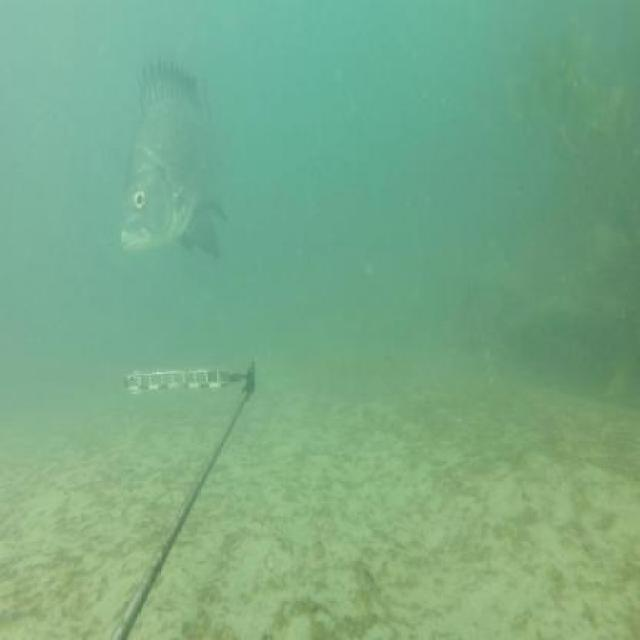acanthopagrus_palmaris: (119, 54, 232, 266)
